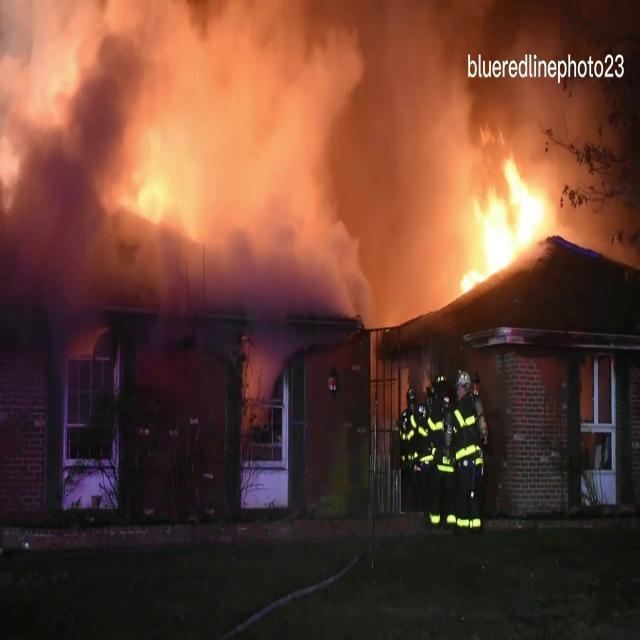Fire: (448, 148, 564, 294)
Smoke: (1, 0, 486, 306)
